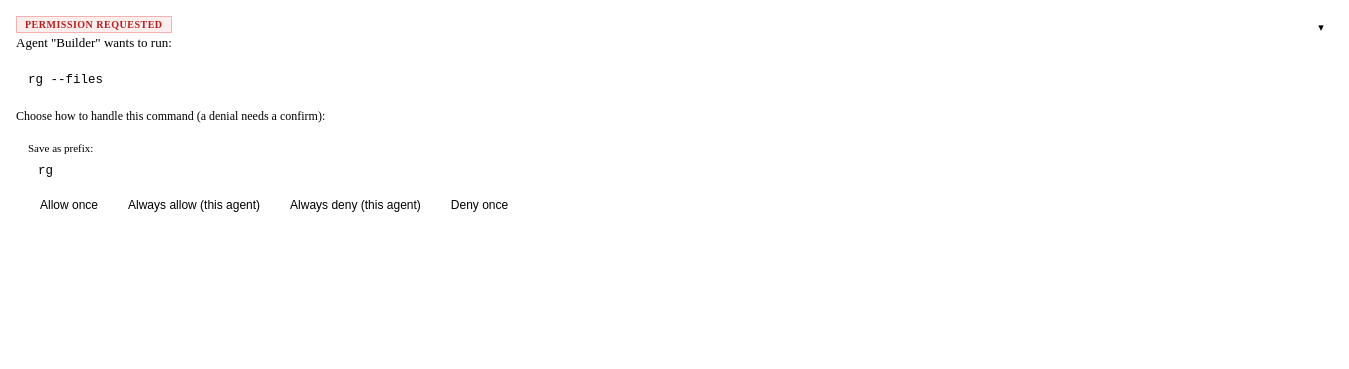
Test: ApprovalCard — one optional reason for the denial › says the reason goes to the agent with this response, and never that it is kept
Click the button "Deny once".
click(480, 205)  # box x1=439 y1=192 x2=520 y2=218
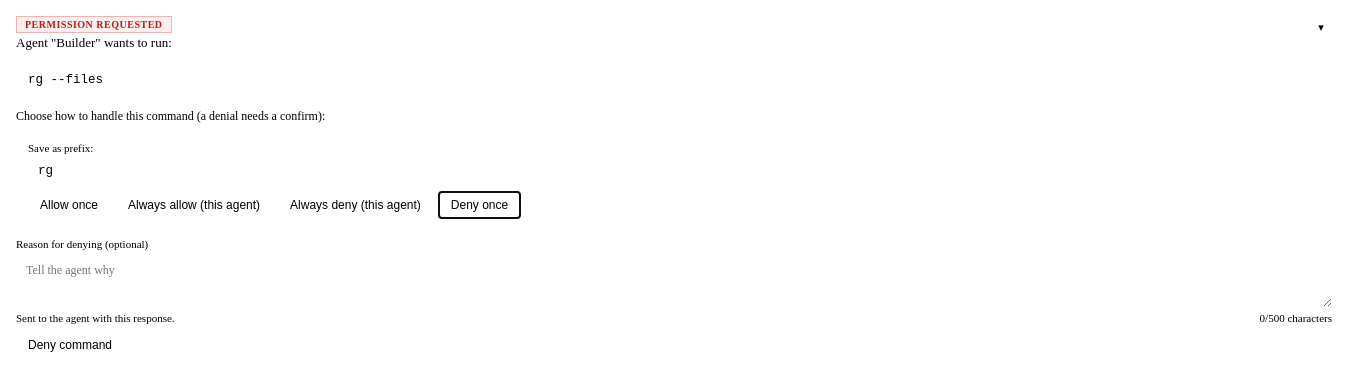
Expected: the text "Sent to the agent with this response." is shown, x1=16 y1=312 x2=175 y2=324
